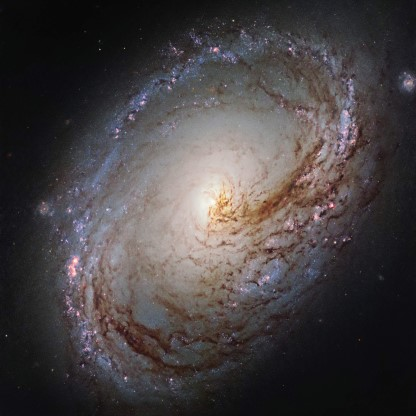Messier 96: (21, 7, 416, 413)
